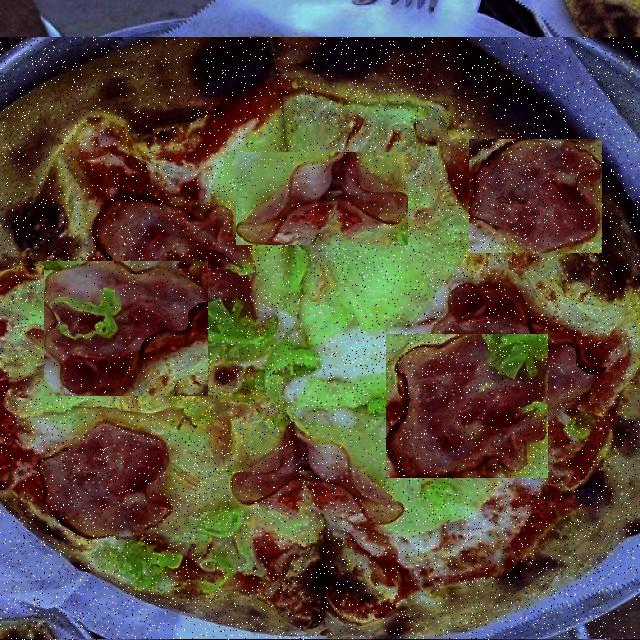Ham: (386, 334, 548, 478), (45, 261, 208, 396), (236, 152, 408, 245), (469, 139, 602, 253)
Pizza: (0, 37, 640, 640)
